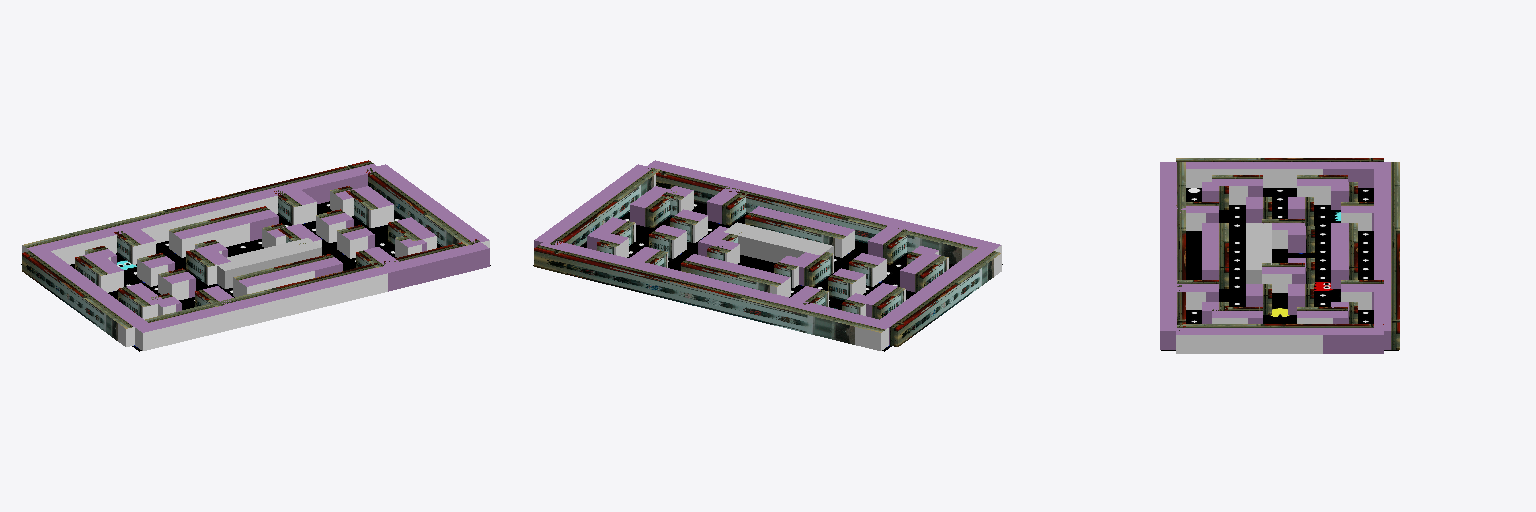
3 views of the same model, side by side, from view 1: azimuth 30°, elevation 25°; view 2: azimuth 150°, elevation 25°; view 3: azimuth 270°, elevation 25° (orthographic).
Parts seen in each view (by area): view 1: Wall_OutBack_Cube.001, Wall_OutFront_Cube, Wall_OutLeft_Cube.002, Wall_OutRight_Cube.003, 0_Ref_Plane, Wall_InFrontMiddle_Cube.017, Square_Middle_Cube.022, Wall_InBackMiddle_Cube.016, L_VertFrontRight_Cube.010, L_VertFrontLeft_Cube.009, Wall_InFrontRight_Cube.005, L_VertBackLeft_Cube.008 (+10 smaller); view 2: Wall_OutFront_Cube, Wall_OutBack_Cube.001, Wall_OutLeft_Cube.002, Wall_OutRight_Cube.003, 0_Ref_Plane, Wall_InBackMiddle_Cube.016, Square_Middle_Cube.022, Wall_InFrontMiddle_Cube.017, L_VertBackLeft_Cube.008, L_VertBackRight_Cube.011, Wall_InBackRight_Cube.006, Wall_InBackLeft_Cube.007 (+11 smaller); view 3: 0_Ref_Plane, Wall_OutRight_Cube.003, Wall_OutFront_Cube, Wall_OutBack_Cube.001, Wall_OutLeft_Cube.002, Wall_InBackMiddle_Cube.016, Wall_InFrontMiddle_Cube.017, Square_Middle_Cube.022, L_VertBackLeft_Cube.008, L_VertFrontLeft_Cube.009, Square_Right_Cube.024, Wall_InBackRight_Cube.006 (+13 smaller).
Part boxes in pixels (left/top/right/bottom): Wall_OutBack_Cube.001: left=135, top=239, right=489, bottom=350; Wall_OutFront_Cube: left=22, top=160, right=379, bottom=264; Wall_OutLeft_Cube.002: left=22, top=248, right=148, bottom=346; Wall_OutRight_Cube.003: left=366, top=164, right=489, bottom=247; 0_Ref_Plane: left=21, top=201, right=490, bottom=351; Wall_InFrontMiddle_Cube.017: left=169, top=206, right=278, bottom=257; Square_Middle_Cube.022: left=216, top=238, right=321, bottom=288; Wall_InBackMiddle_Cube.016: left=233, top=254, right=342, bottom=296; L_VertFrontRight_Cube.010: left=346, top=186, right=393, bottom=227; L_VertFrontLeft_Cube.009: left=75, top=252, right=123, bottom=292; Wall_InFrontRight_Cube.005: left=274, top=186, right=316, bottom=224; L_VertBackLeft_Cube.008: left=118, top=283, right=165, bottom=319; Wall_OutFront_Cube: left=534, top=241, right=890, bottom=350; Wall_OutBack_Cube.001: left=646, top=160, right=1001, bottom=264; Wall_OutLeft_Cube.002: left=880, top=247, right=1001, bottom=346; Wall_OutRight_Cube.003: left=534, top=164, right=659, bottom=247; 0_Ref_Plane: left=533, top=201, right=1002, bottom=351; Wall_InBackMiddle_Cube.016: left=745, top=206, right=854, bottom=257; Square_Middle_Cube.022: left=724, top=222, right=833, bottom=262; Wall_InFrontMiddle_Cube.017: left=681, top=254, right=790, bottom=296; L_VertBackLeft_Cube.008: left=900, top=252, right=948, bottom=292; L_VertBackRight_Cube.011: left=630, top=186, right=676, bottom=227; Wall_InBackRight_Cube.006: left=707, top=187, right=748, bottom=225; Wall_InBackLeft_Cube.007: left=868, top=225, right=910, bottom=264; 0_Ref_Plane: left=1161, top=188, right=1398, bottom=350; Wall_OutRight_Cube.003: left=1176, top=324, right=1383, bottom=353; Wall_OutFront_Cube: left=1374, top=162, right=1399, bottom=349; Wall_OutBack_Cube.001: left=1160, top=162, right=1185, bottom=349; Wall_OutLeft_Cube.002: left=1176, top=158, right=1383, bottom=187; Wall_InBackMiddle_Cube.016: left=1202, top=223, right=1228, bottom=288; Wall_InFrontMiddle_Cube.017: left=1331, top=223, right=1357, bottom=288; Square_Middle_Cube.022: left=1246, top=223, right=1271, bottom=283; L_VertBackLeft_Cube.008: left=1212, top=175, right=1262, bottom=204; L_VertFrontLeft_Cube.009: left=1297, top=175, right=1347, bottom=204; Square_Right_Cube.024: left=1262, top=263, right=1304, bottom=292; Wall_InBackRight_Cube.006: left=1176, top=280, right=1218, bottom=309.
Size of the model in its own units: 165 by 8.09 by 94.57.
3 materials, 2 textured.